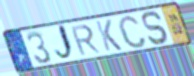3: (26, 30, 52, 65)
C: (117, 14, 149, 50)
J: (54, 23, 77, 64)
K: (94, 18, 124, 53)
R: (69, 24, 102, 57)
S: (141, 10, 171, 46)
